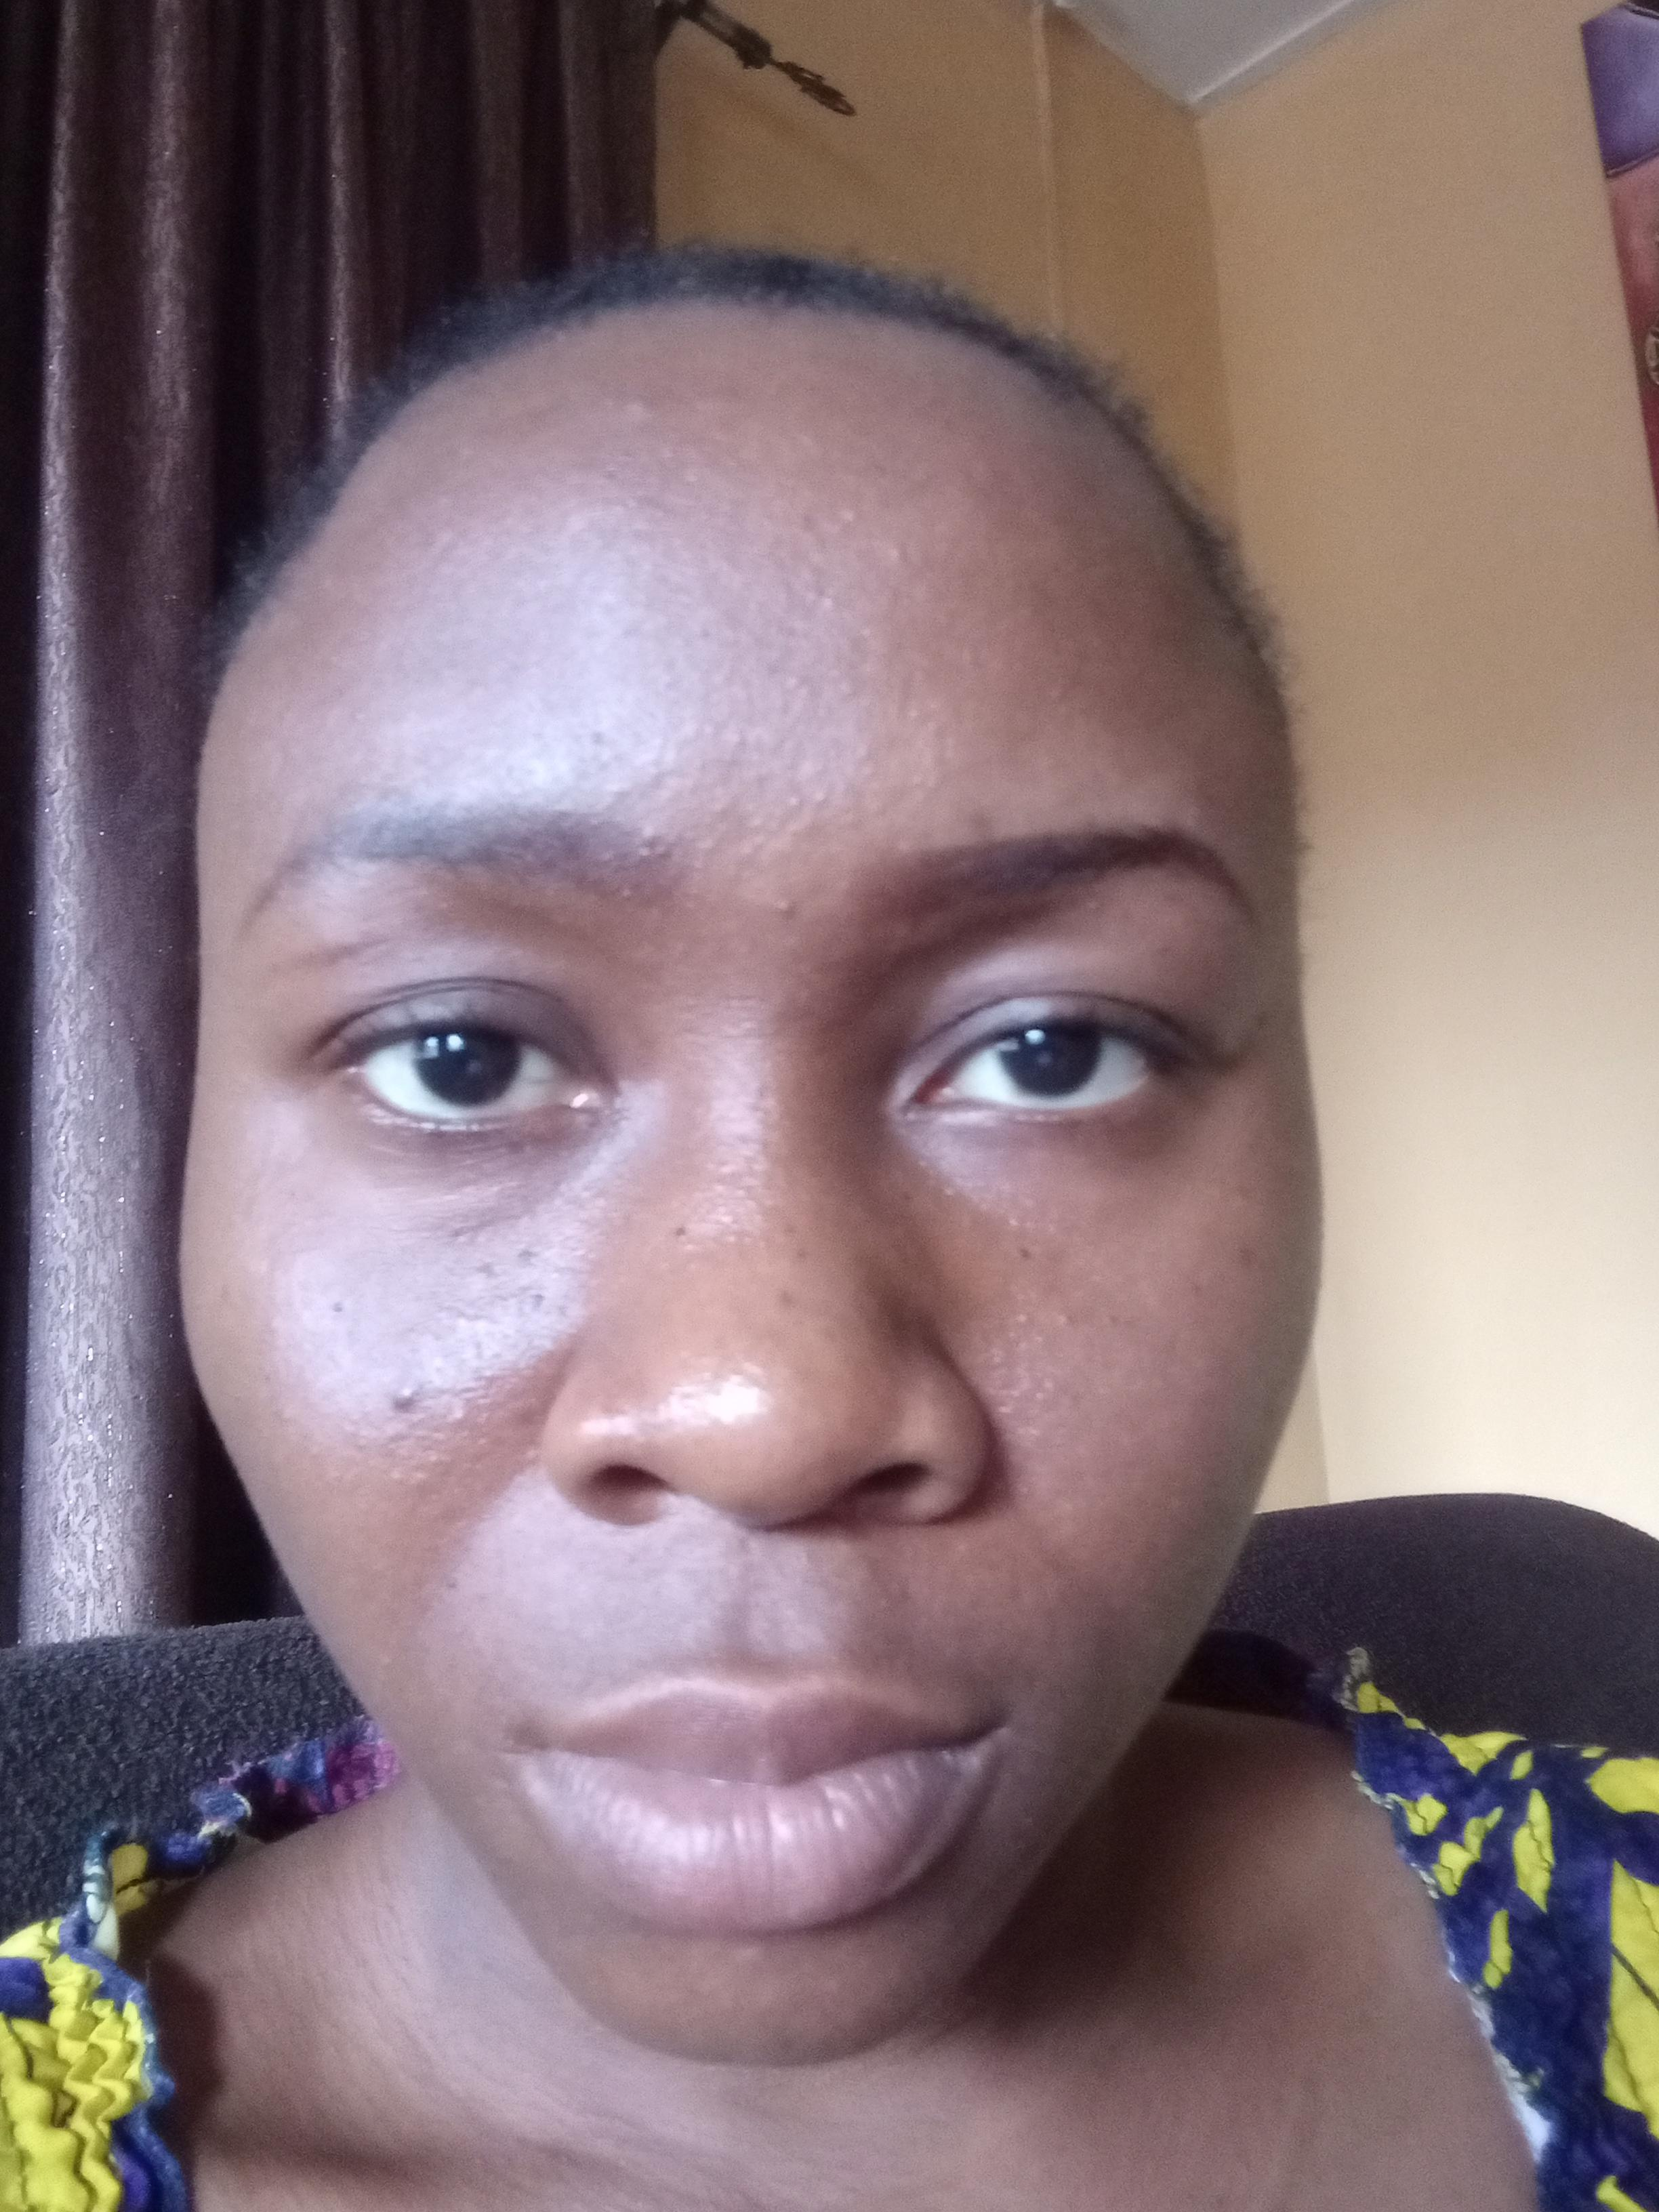Acne: (385, 1437, 465, 1503), (354, 1376, 420, 1437), (671, 712, 749, 758), (770, 1217, 819, 1275), (782, 786, 833, 838), (504, 1372, 540, 1432), (1002, 1310, 1082, 1336), (444, 1378, 486, 1421), (770, 1284, 812, 1318), (809, 580, 850, 615), (877, 540, 929, 568), (770, 664, 812, 695), (617, 387, 662, 415), (1009, 1233, 1037, 1273), (509, 1238, 549, 1264), (769, 888, 800, 921), (465, 1258, 502, 1285), (528, 1284, 552, 1312)
